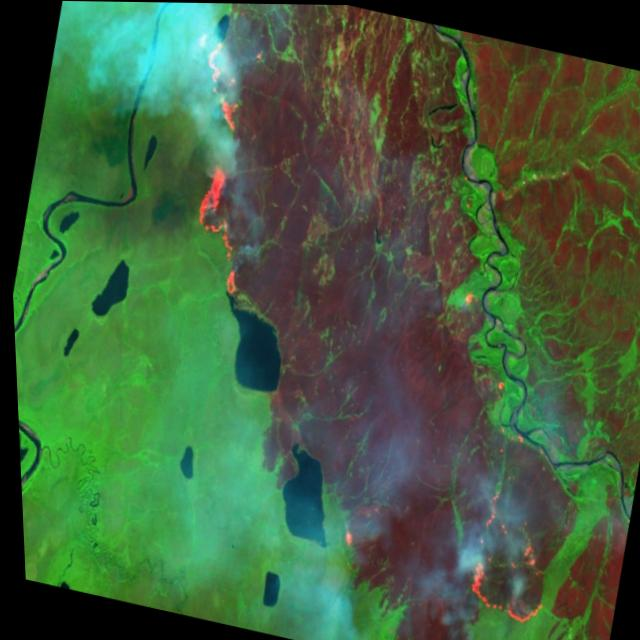fire: (137, 2, 305, 300), (428, 486, 559, 640), (327, 514, 355, 551)
